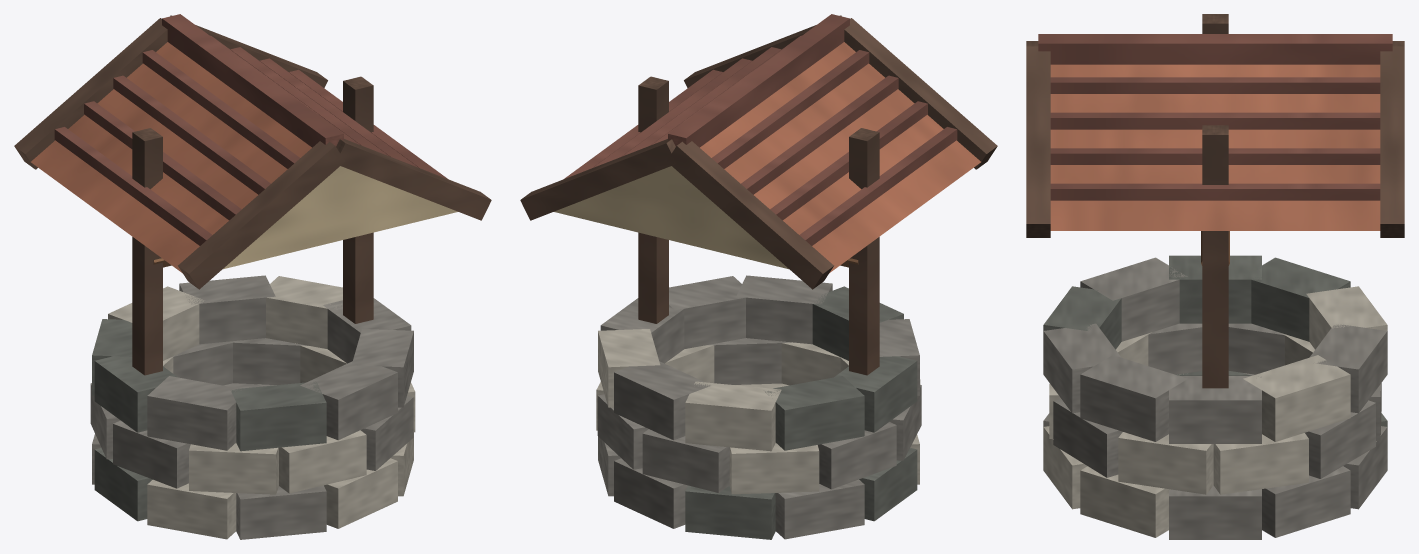
Rendered from well_stone.fbx.
3 views of the same model, side by side, from view 1: azimuth 30°, elevation 25°; view 2: azimuth 150°, elevation 25°; view 3: azimuth 270°, elevation 25° (orthographic). The views are drawn at different scales.
Visible parts, largest first — view 1: well_stone; view 2: well_stone; view 3: well_stone.
Boxes of the visible parts, x1,y1,x2,y2 form: well_stone: (14, 14, 491, 539); well_stone: (520, 14, 997, 539); well_stone: (1026, 14, 1404, 539).
Size of the model in its own units: 160 by 200 by 160.
1 material, 1 textured.
